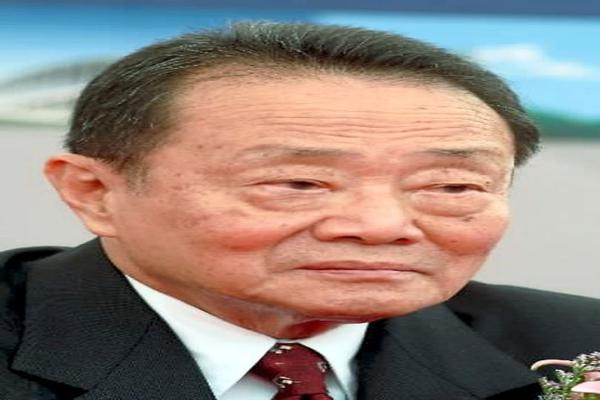Chinese: (185, 85, 512, 310)
